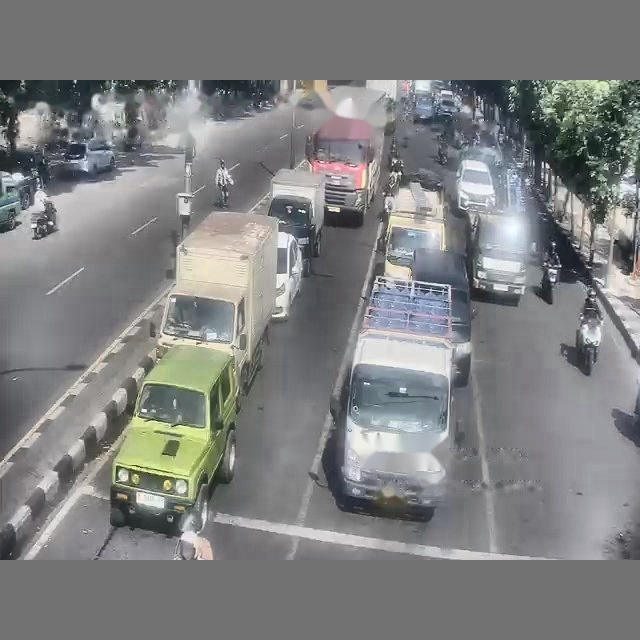Mobil: (110, 345, 237, 526), (411, 248, 474, 385), (0, 148, 49, 209), (272, 232, 302, 319), (456, 159, 495, 221), (63, 138, 115, 175), (413, 95, 435, 122), (436, 98, 457, 116)
Motor: (576, 314, 601, 374), (30, 204, 56, 239), (541, 261, 559, 303), (437, 144, 448, 165)
Truk: (330, 276, 462, 514), (150, 212, 277, 394), (306, 87, 386, 225), (267, 169, 325, 276), (384, 182, 446, 278)
